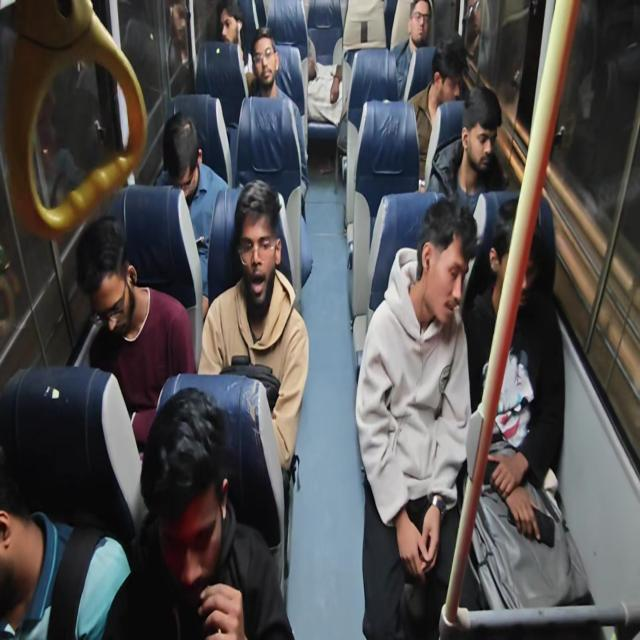person: (161, 385, 245, 640), (69, 205, 164, 388), (137, 98, 230, 272), (388, 208, 473, 350), (0, 443, 56, 640), (220, 150, 288, 305), (480, 216, 538, 338), (304, 31, 353, 127), (442, 90, 492, 173), (248, 29, 290, 105), (207, 8, 246, 88), (434, 44, 469, 128), (409, 0, 440, 61)
